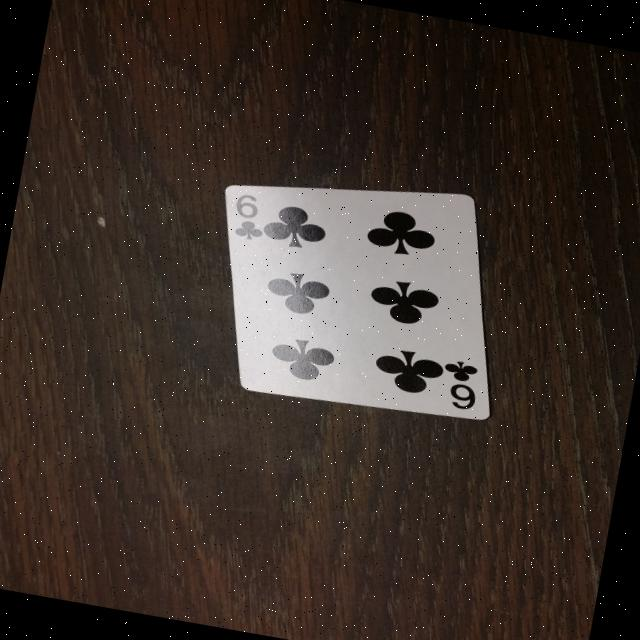6c: (426, 346, 492, 418), (224, 185, 278, 250)
